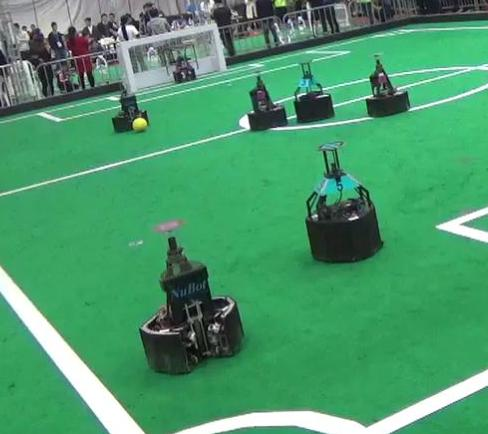robot: (131, 221, 251, 378), (301, 138, 391, 267)
